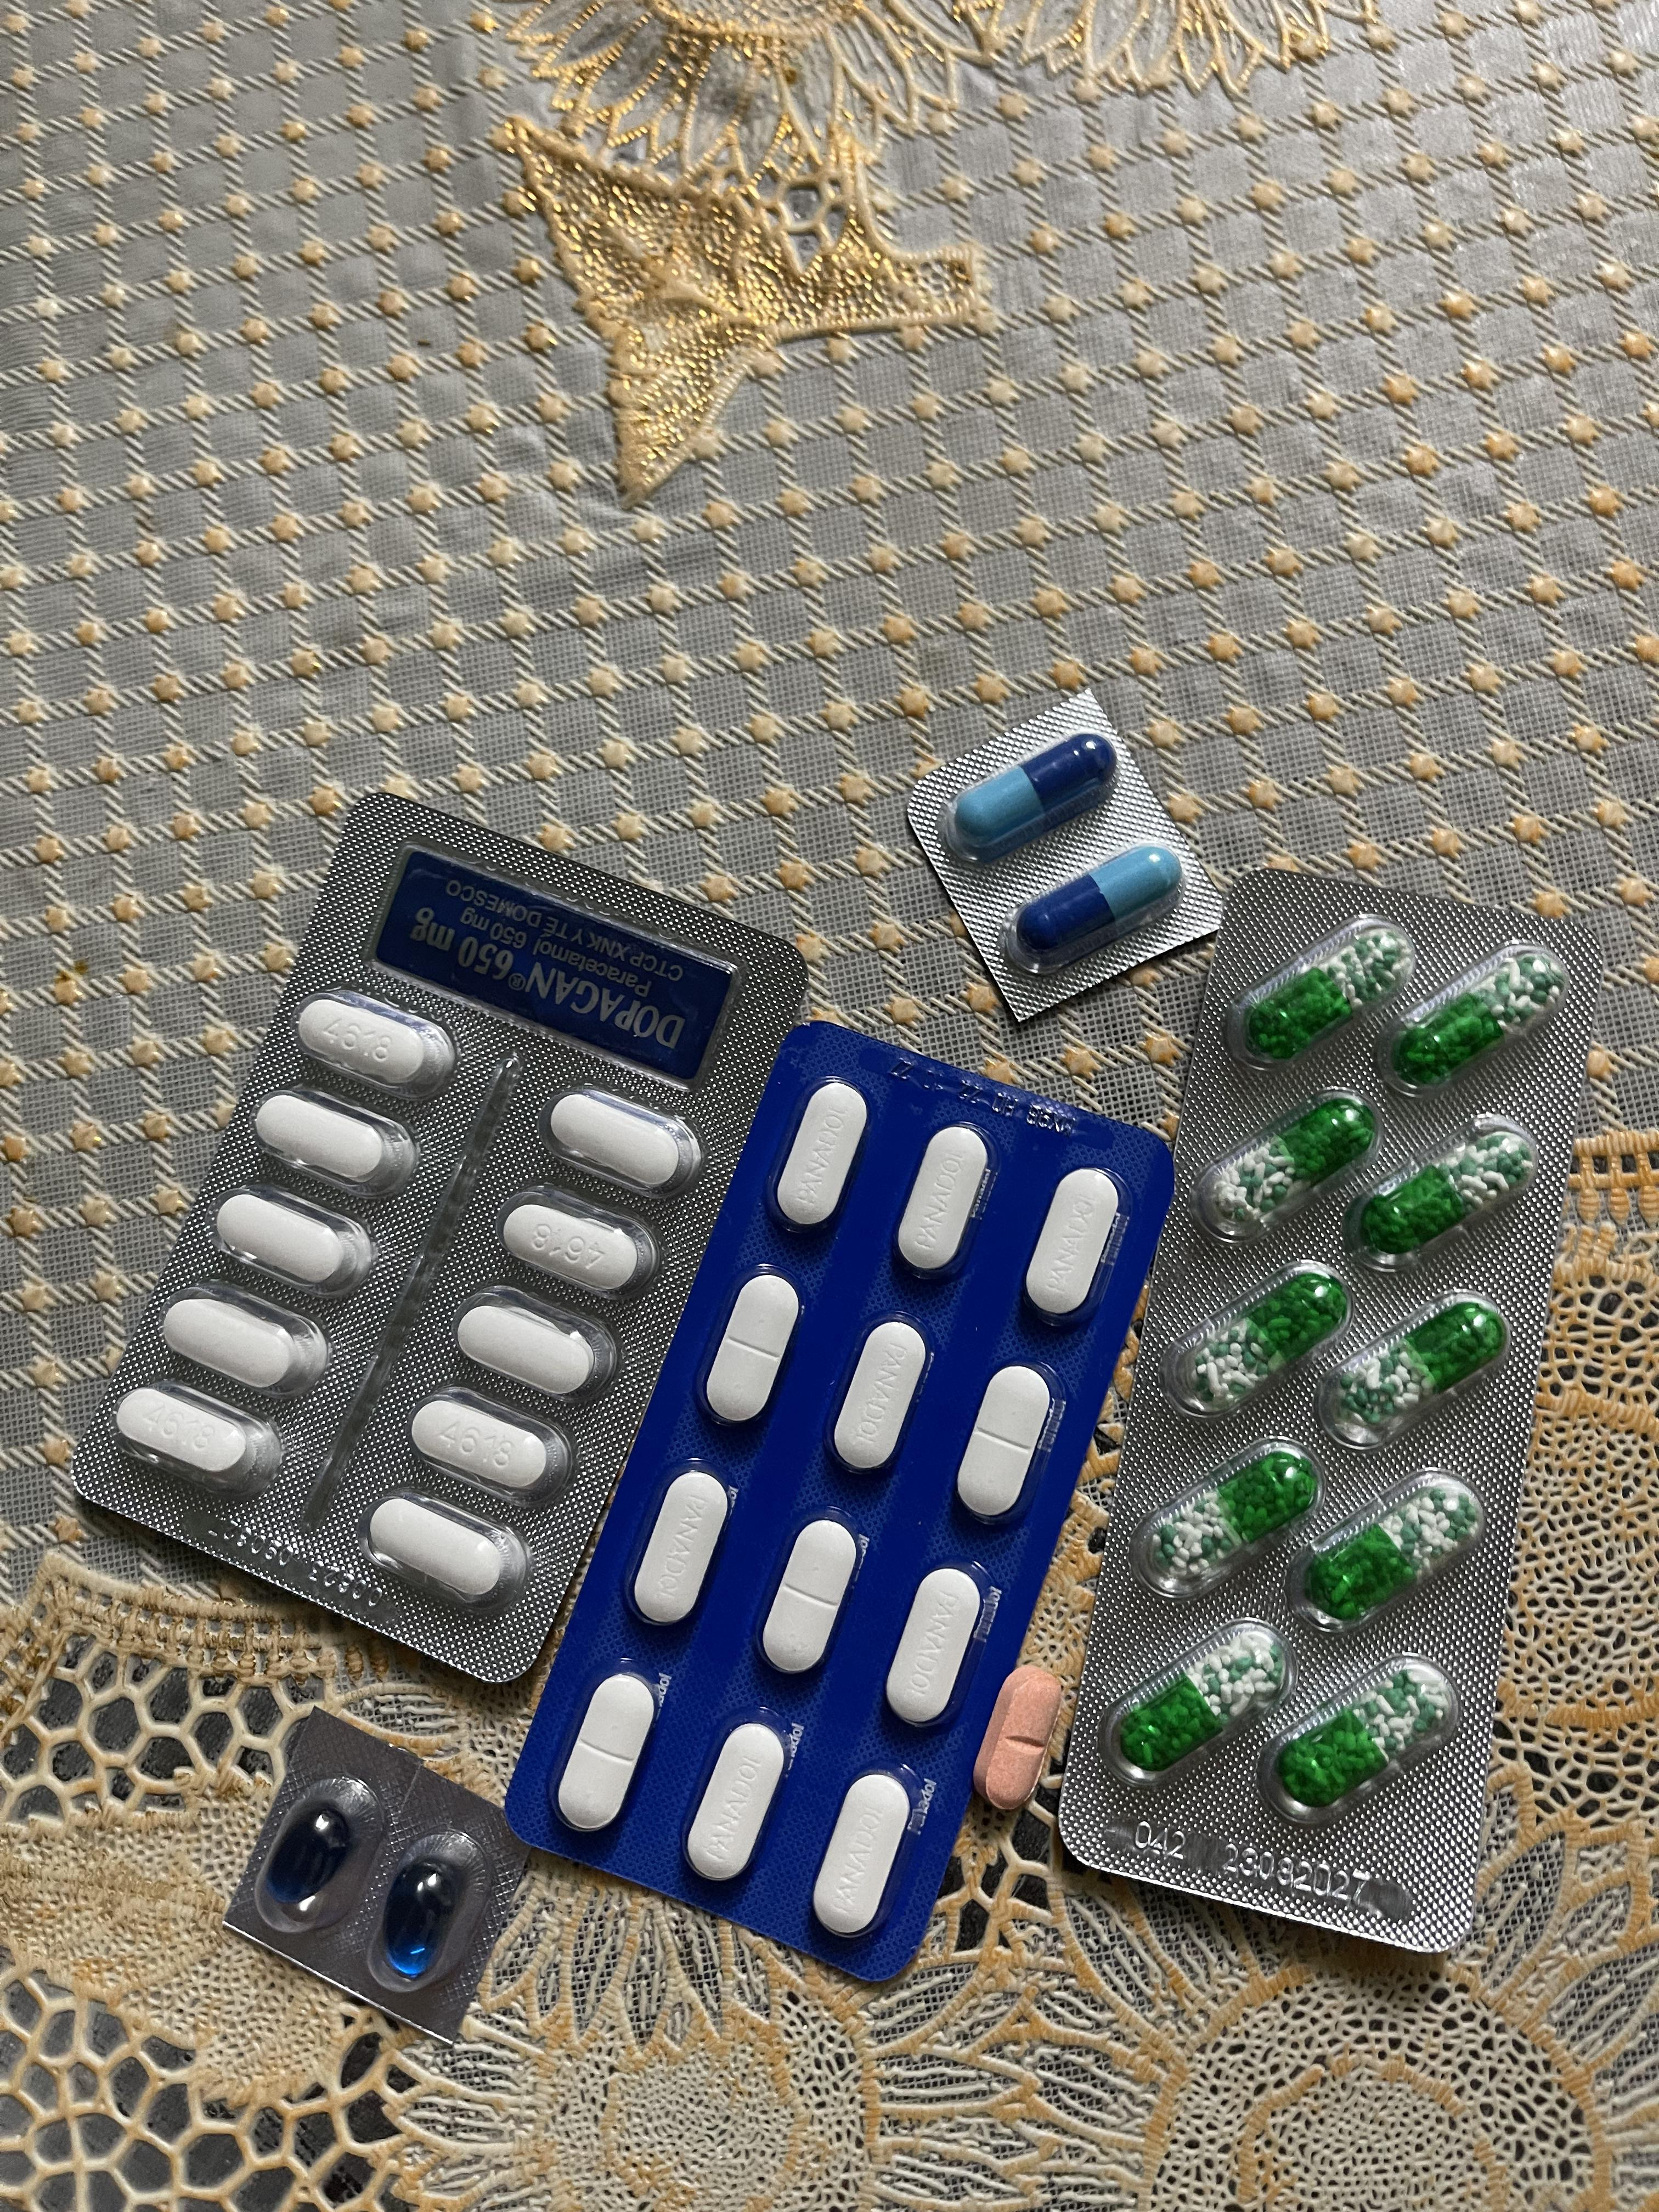Lincomyxin_500mg: (263, 1801, 356, 1912), (380, 1857, 460, 1979)
Loratadine_10mg: (978, 1667, 1063, 1810)
Paracetamol_350mg: (812, 1770, 913, 1939), (685, 1724, 788, 1890), (627, 1472, 732, 1632), (556, 1669, 657, 1832), (885, 1561, 985, 1724), (831, 1318, 931, 1475), (760, 1512, 856, 1672), (957, 1364, 1051, 1524), (1025, 1170, 1121, 1320), (896, 1123, 992, 1273), (704, 1270, 796, 1425), (774, 1083, 868, 1230)
Paracetamol_500mg: (113, 1383, 279, 1498), (214, 1183, 376, 1298), (408, 1388, 570, 1501), (364, 1494, 518, 1604), (296, 993, 457, 1096), (545, 1089, 697, 1197), (453, 1296, 601, 1402), (162, 1292, 314, 1393), (256, 1090, 401, 1184), (502, 1200, 641, 1294)
Paracetamol_650mg: (1286, 1468, 1485, 1634), (1333, 1303, 1506, 1446), (1281, 1665, 1450, 1808), (1183, 1275, 1349, 1416), (1126, 1630, 1286, 1775), (1392, 958, 1561, 1089), (1218, 1094, 1378, 1230), (1152, 1451, 1317, 1581), (1244, 934, 1408, 1061), (1368, 1130, 1534, 1252)
pill: (938, 730, 1117, 866), (999, 841, 1178, 970)
